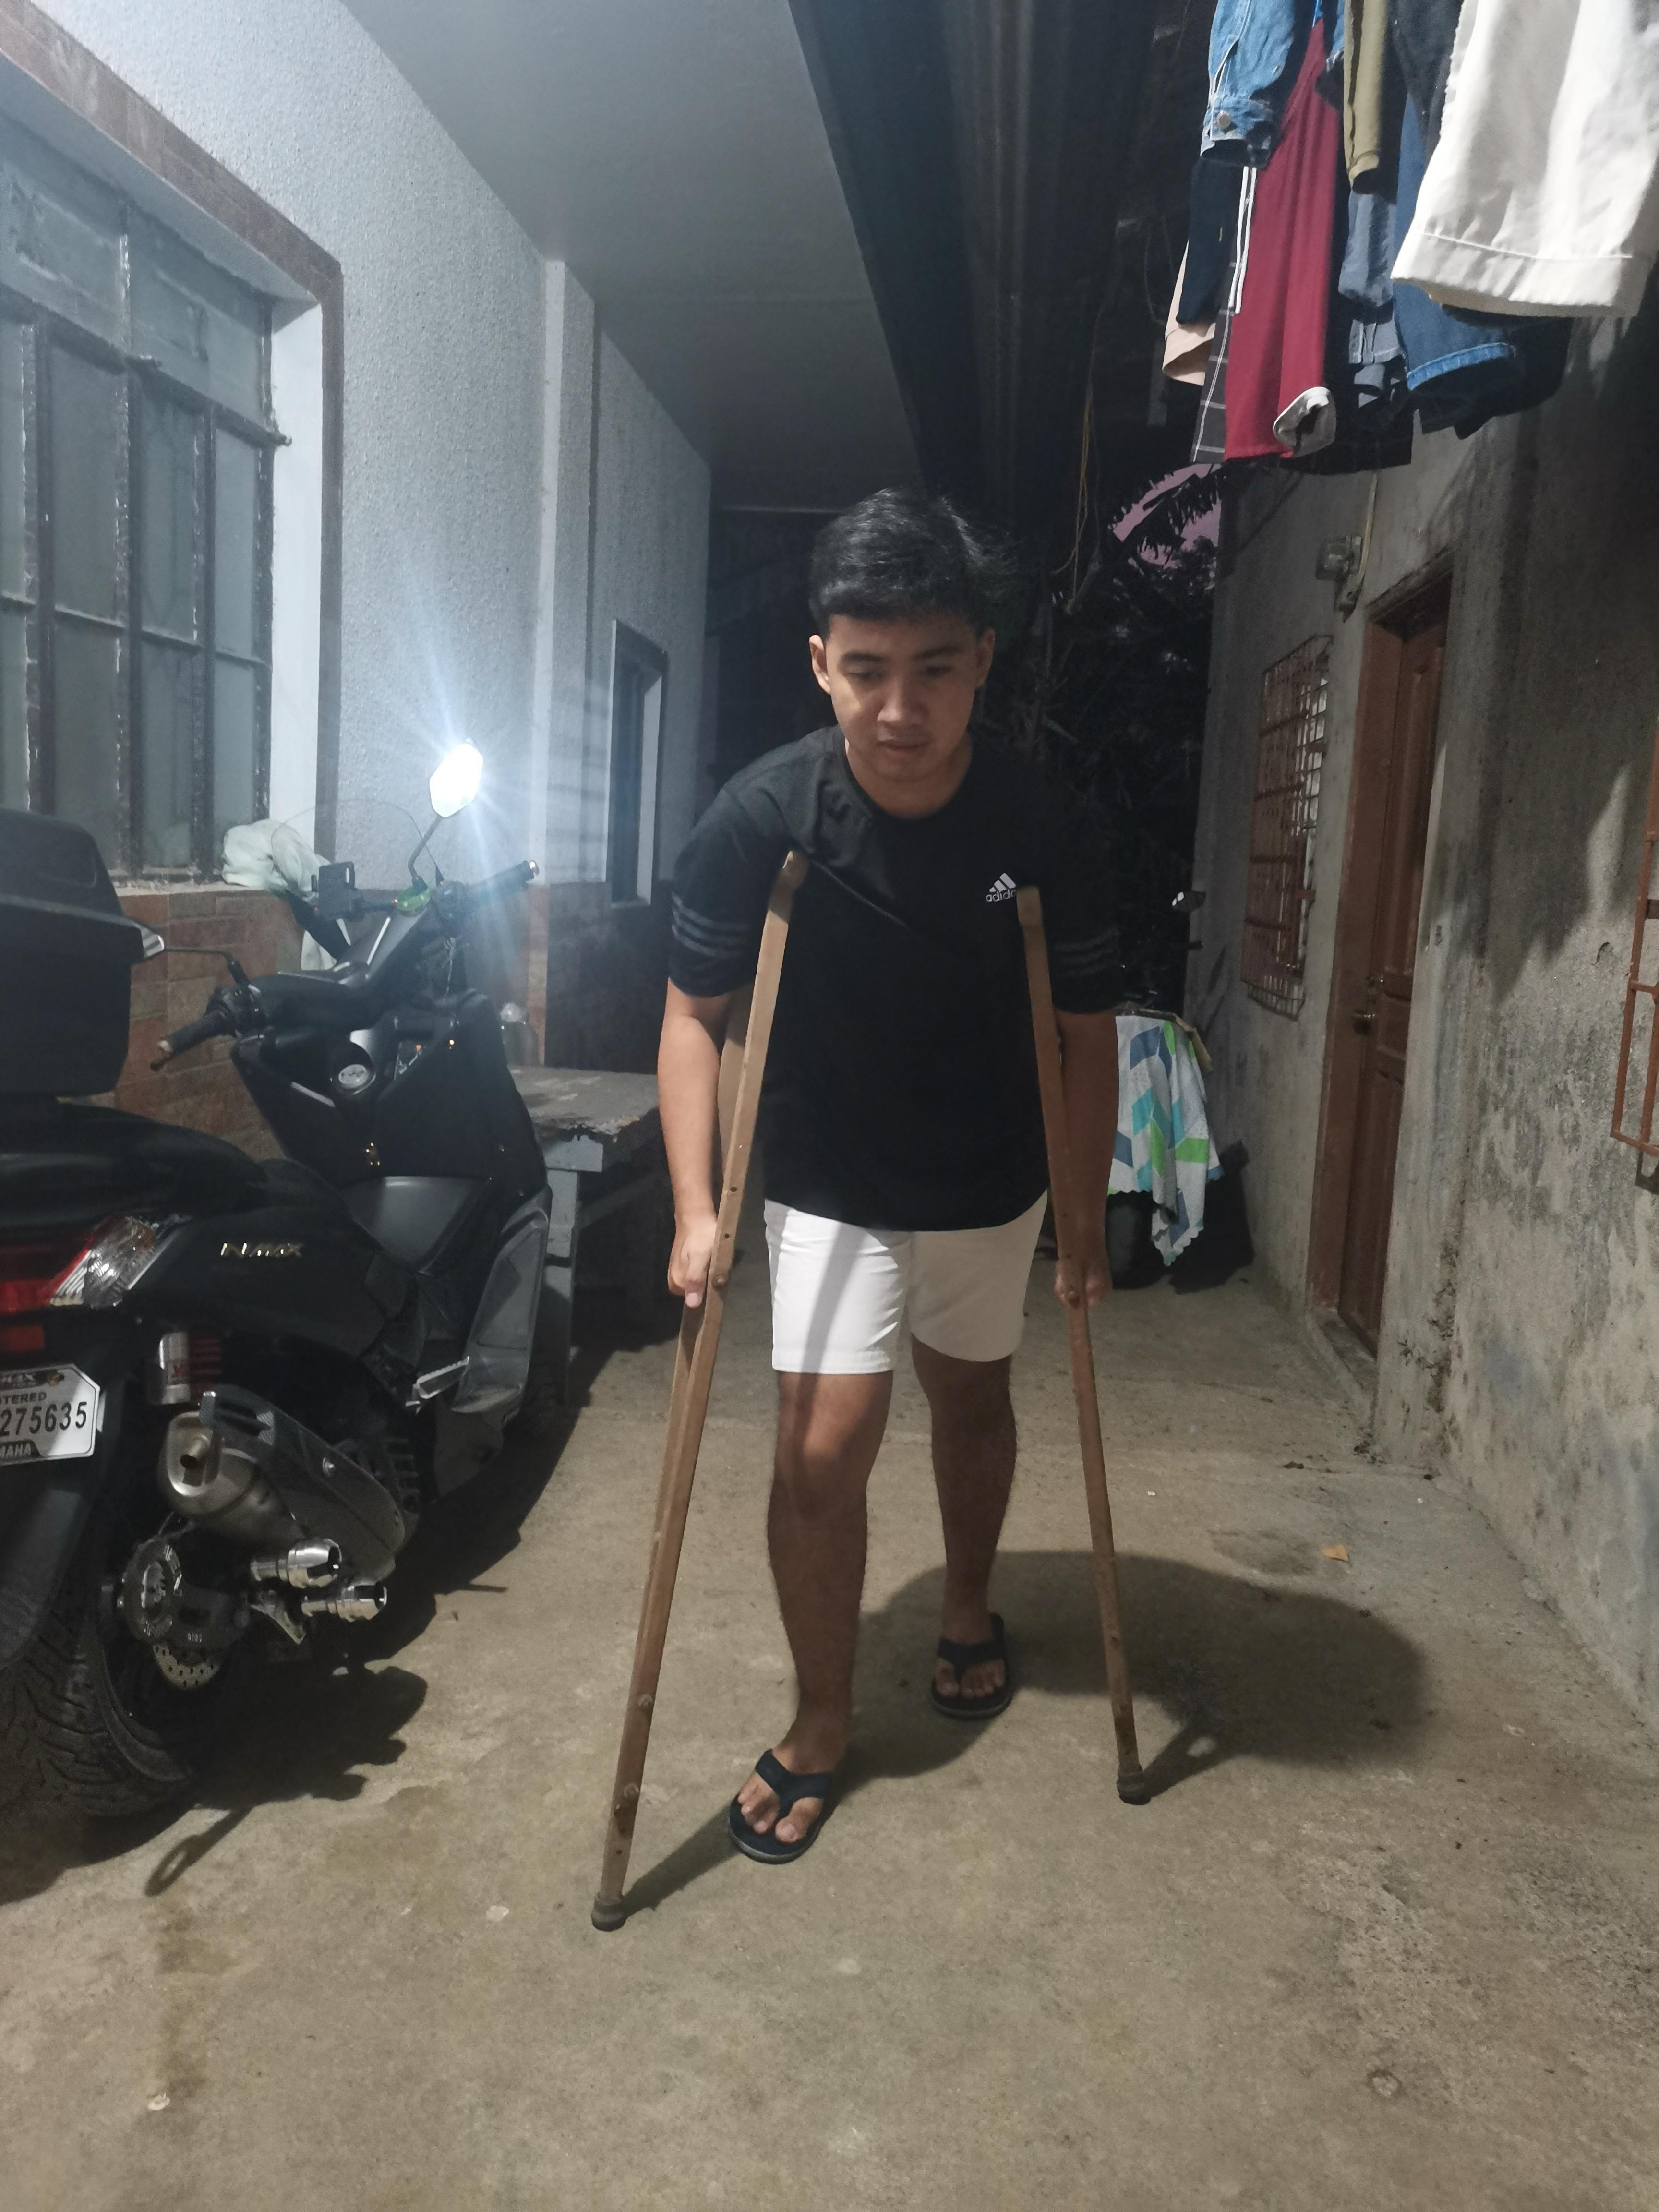crutches: (589, 491, 1145, 1925)
